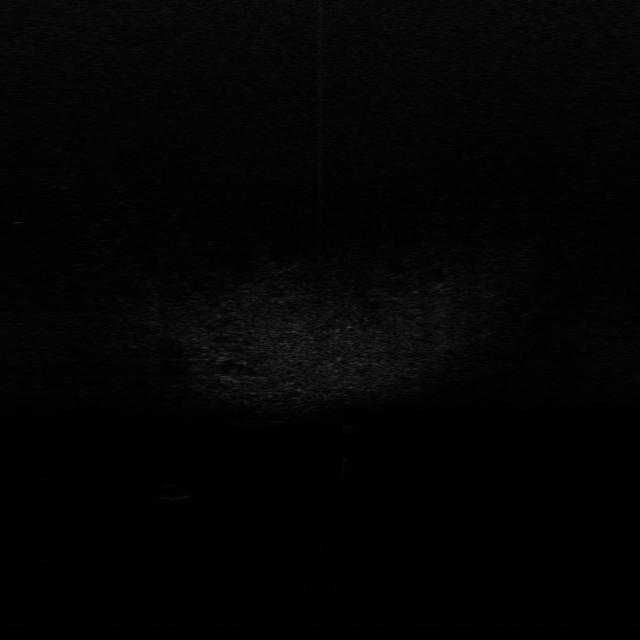ball: (156, 482, 188, 502)
cube: (341, 416, 368, 434)
